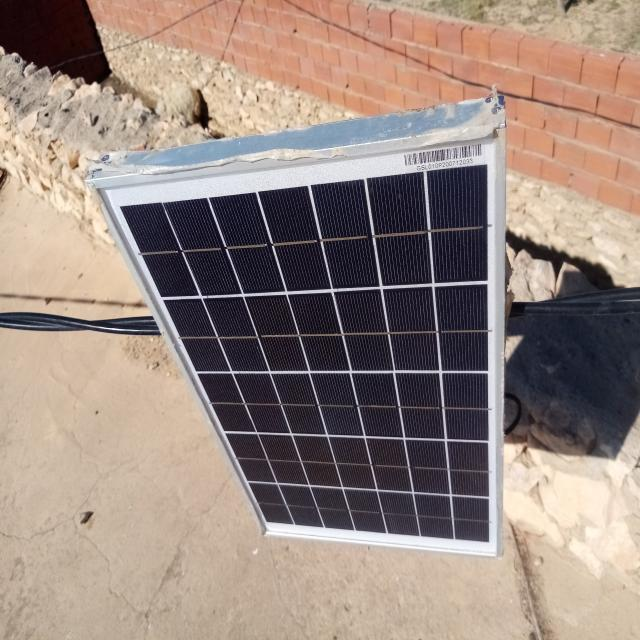Normal Solar Panel: (94, 125, 500, 554)
